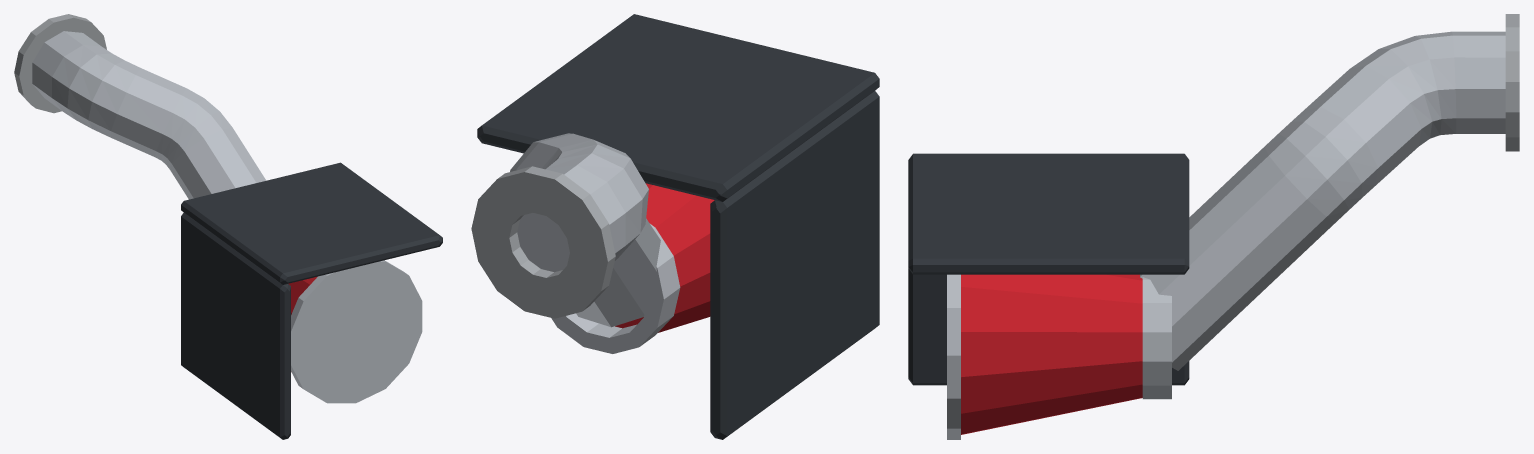
The model's file is kaze_gt.glb.
3 renders of one model, left to right at view 1: azimuth 30°, elevation 25°; view 2: azimuth 150°, elevation 25°; view 3: azimuth 270°, elevation 25°, orthographic. The views are drawn at different scales.
Parts seen in each view (by area): view 1: model; view 2: model; view 3: model.
Boxes of the visible parts, x1,y1,x2,y2 form: model: (14, 14, 442, 439); model: (471, 14, 879, 439); model: (908, 14, 1519, 439).
Bounding box in the file's own units: 0.2801 × 0.3386 × 0.522.
2 materials, 1 textured.
